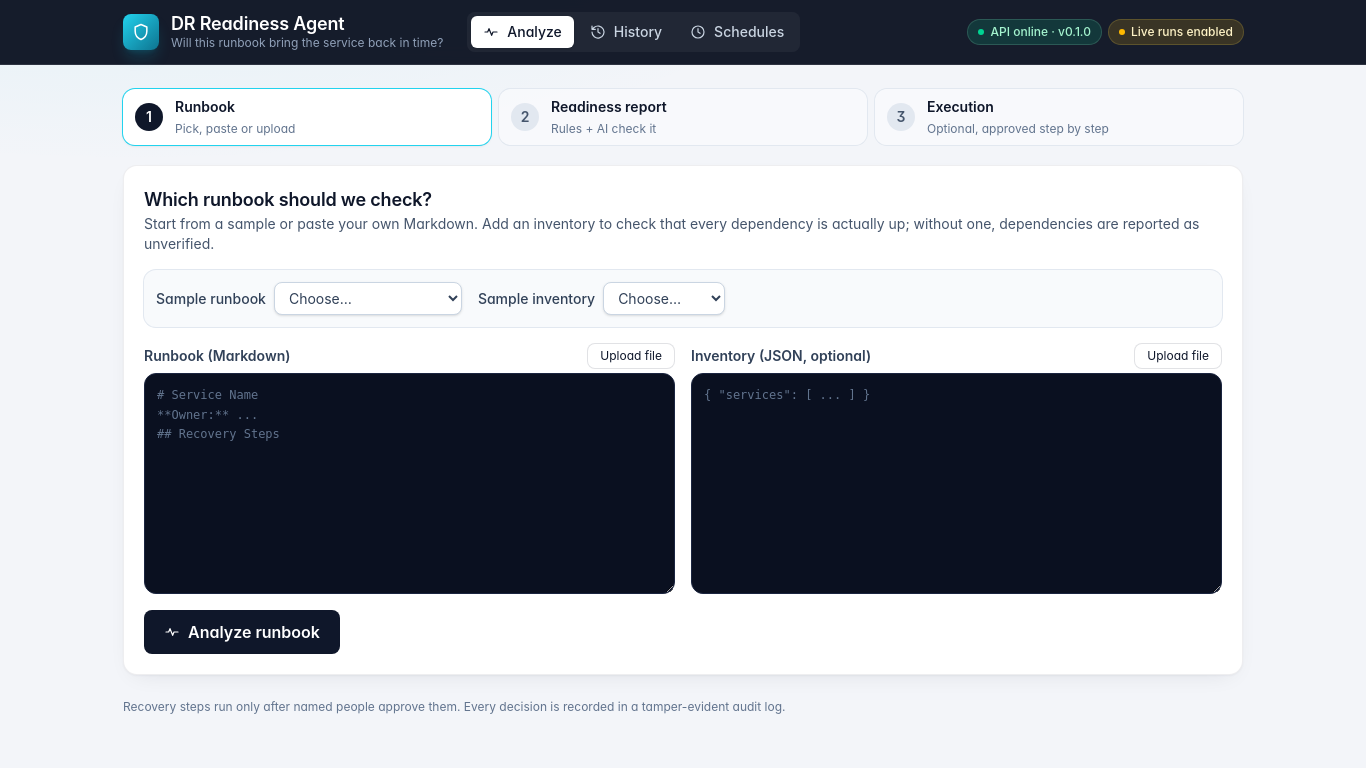
Test: app shell and flow › ticks the execution step once a run of this analysis has completed
In the text box labelled "Runbook (Markdown)": (410, 484) [144,373,675,594], type "# Svc"
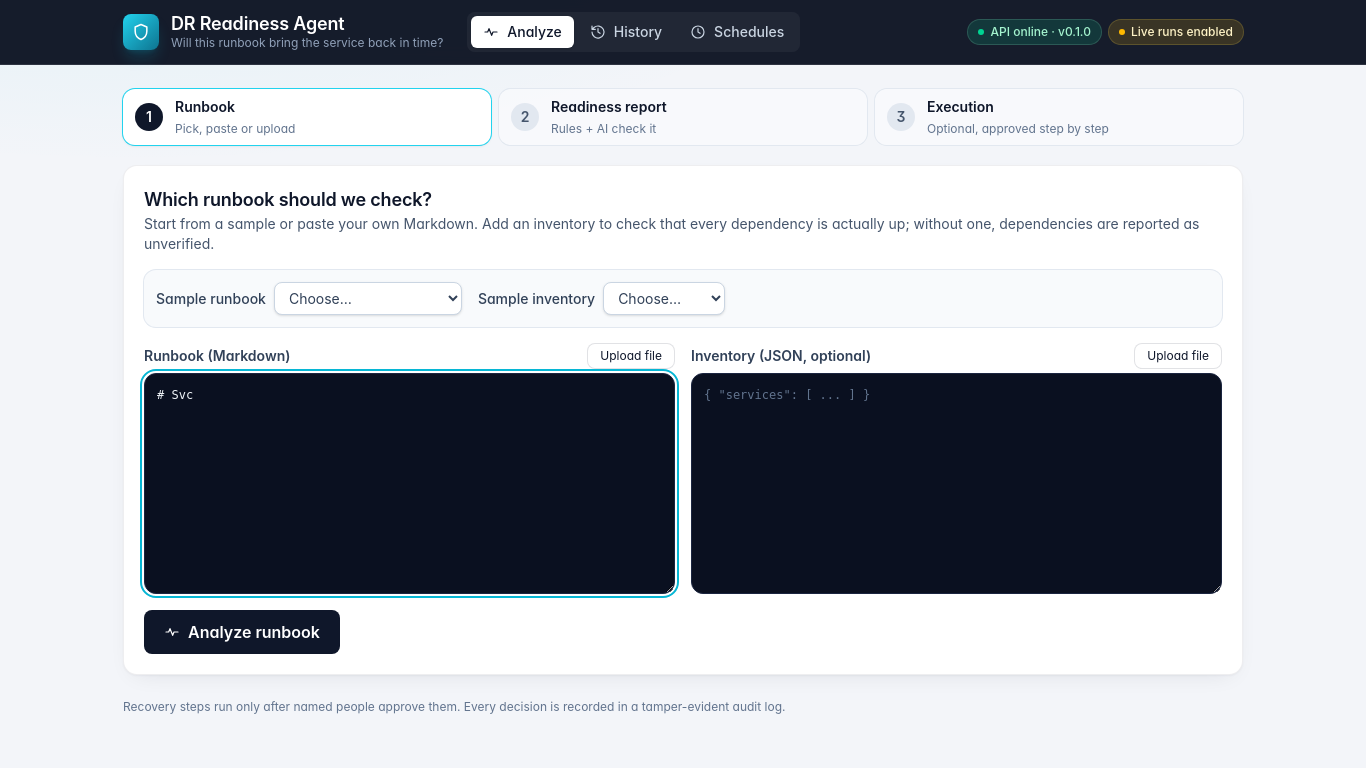
Click the button "Analyze runbook": (242, 632) [144,610,340,654]
(page scrolled)
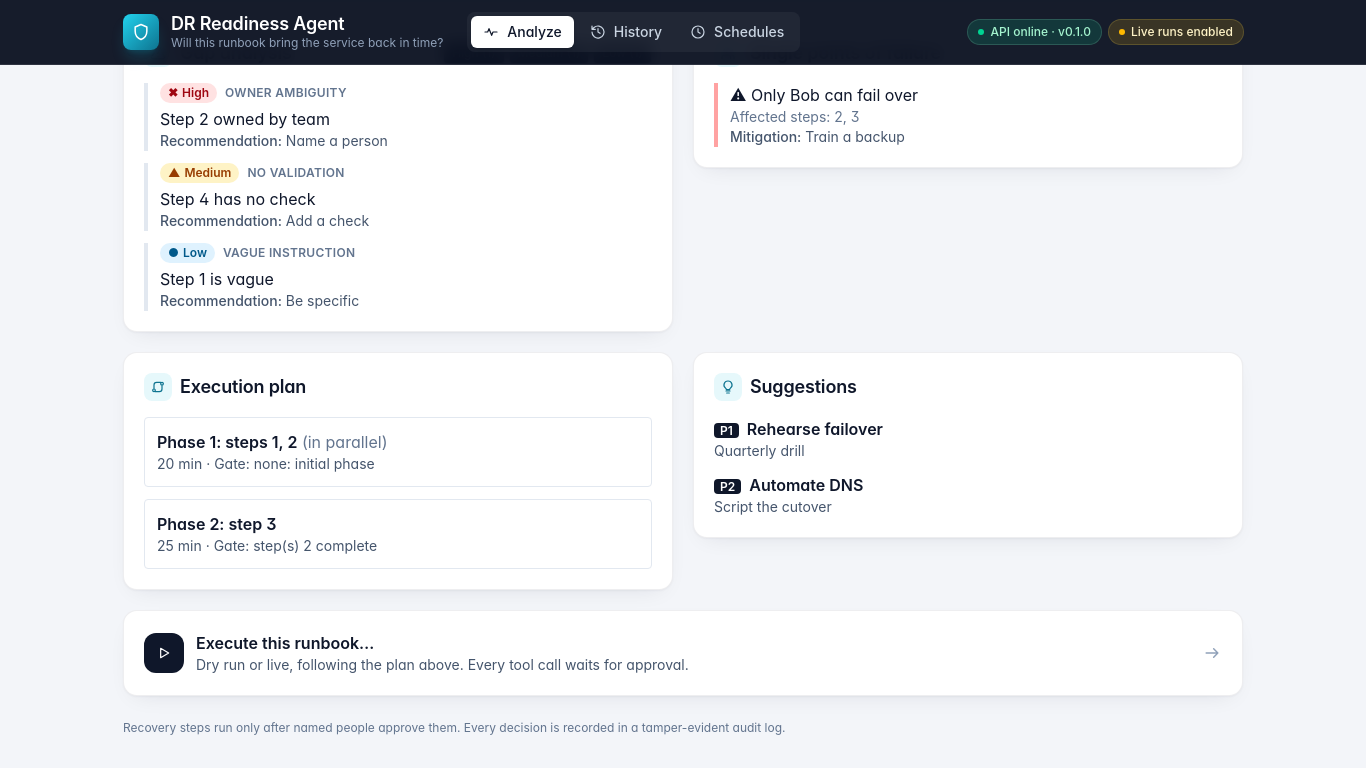
Click the button "Execute this runbook…": (683, 653) [123,610,1243,696]
(page scrolled)
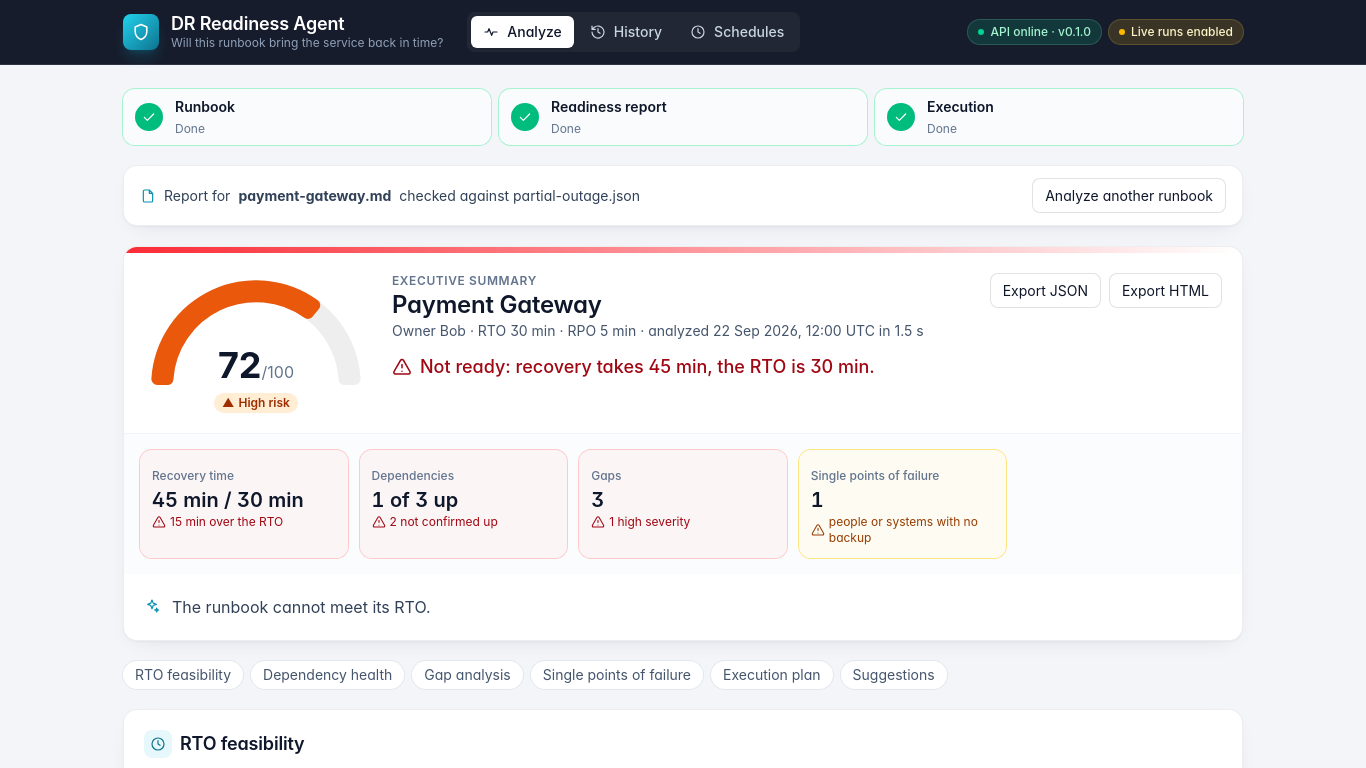
Expected: the list item "Execution Done" is shown, [875,89,1243,145]
